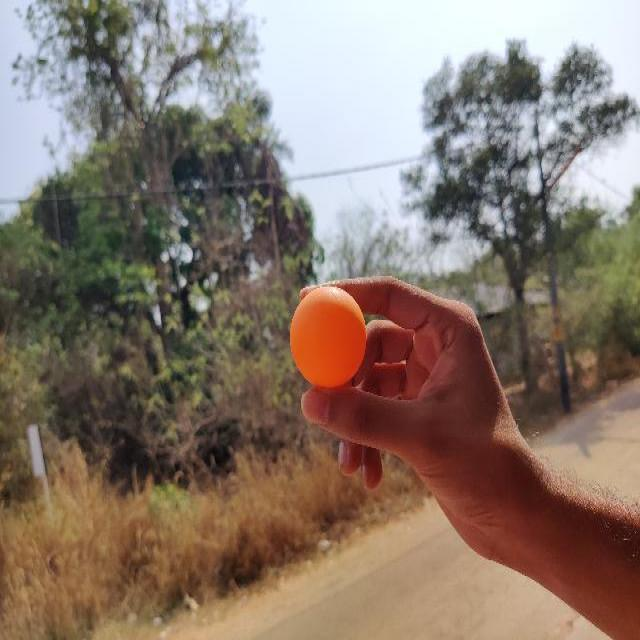oball: (290, 282, 366, 387)
